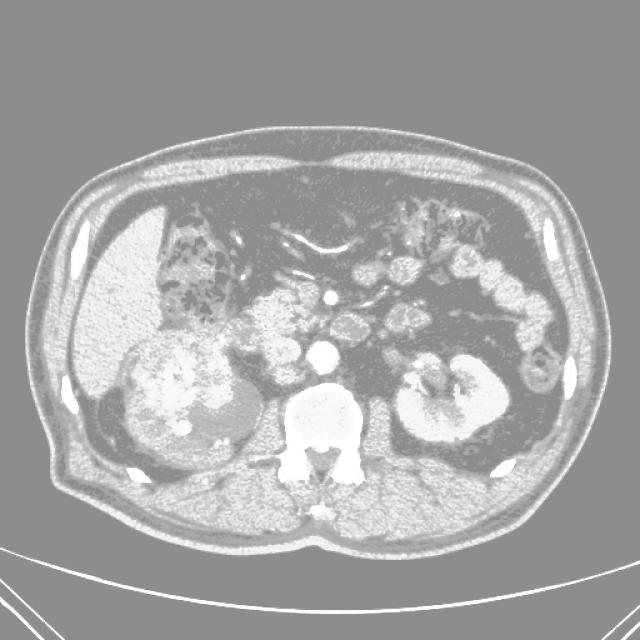TUMOR: (14, 266, 640, 438)
